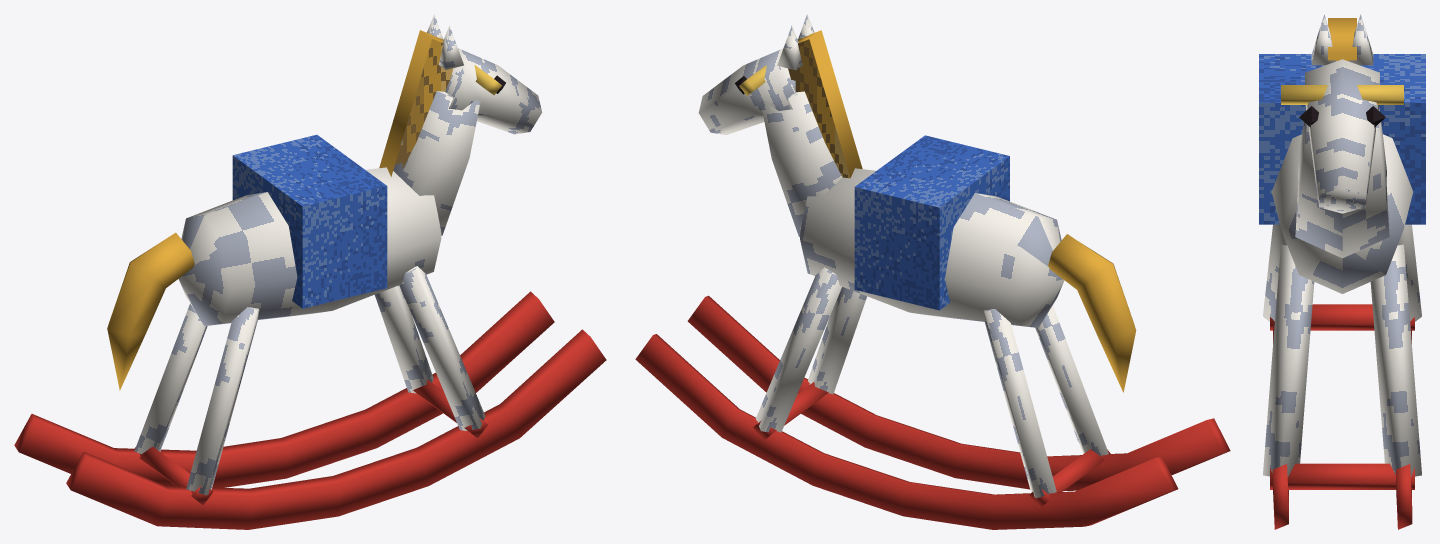
Rendered from personal-rockingHorse.glb.
3 views of the same model, side by side, from view 1: azimuth 30°, elevation 25°; view 2: azimuth 150°, elevation 25°; view 3: azimuth 270°, elevation 25° (orthographic). The views are drawn at different scales.
Visible parts, largest first — view 1: personal.rockingHorse; view 2: personal.rockingHorse; view 3: personal.rockingHorse.
Part boxes in pixels (<box>): personal.rockingHorse: <box>14,14,606,529</box>; personal.rockingHorse: <box>635,14,1230,529</box>; personal.rockingHorse: <box>1259,14,1425,529</box>.
Size of the model in its own units: 1.79 by 1.41 by 0.4049.
Materials: 7 (6 with a texture image).
